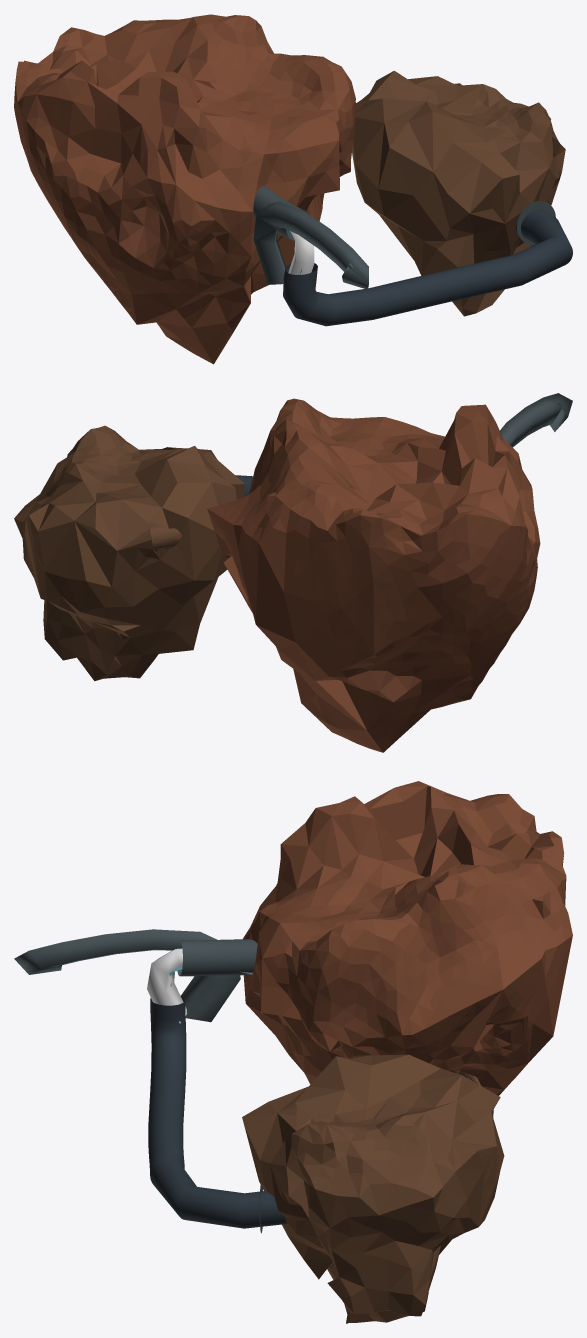
3 renders of one model, top to bottom at view 1: azimuth 30°, elevation 25°; view 2: azimuth 150°, elevation 25°; view 3: azimuth 270°, elevation 25°, orthographic. The views are drawn at different scales.
Parts seen in each view (by area): view 1: Icosphere.001, Icosphere.002, BezierCurve, BezierCurve.003, BezierCurve.002, BezierCurve.001, BezierCurve.004; view 2: Icosphere.001, Icosphere.002, BezierCurve.003; view 3: Icosphere.001, Icosphere.002, BezierCurve, BezierCurve.003, BezierCurve.001, BezierCurve.002.
Part boxes in pixels (x1,y1,x2,y2): Icosphere.001: (14, 14, 355, 364); Icosphere.002: (352, 70, 565, 316); BezierCurve: (283, 210, 572, 326); BezierCurve.003: (253, 201, 368, 289); BezierCurve.002: (288, 231, 314, 274); BezierCurve.001: (253, 186, 307, 240); BezierCurve.004: (517, 201, 555, 244); Icosphere.001: (207, 398, 540, 752); Icosphere.002: (14, 425, 244, 681); BezierCurve.003: (500, 393, 572, 447); Icosphere.001: (243, 781, 572, 1095); Icosphere.002: (242, 1054, 504, 1323); BezierCurve: (148, 995, 287, 1228); BezierCurve.003: (14, 929, 240, 1022); BezierCurve.001: (177, 939, 257, 976); BezierCurve.002: (147, 948, 252, 1023).
Size of the model in its own units: 3.47 by 2.16 by 3.1.
